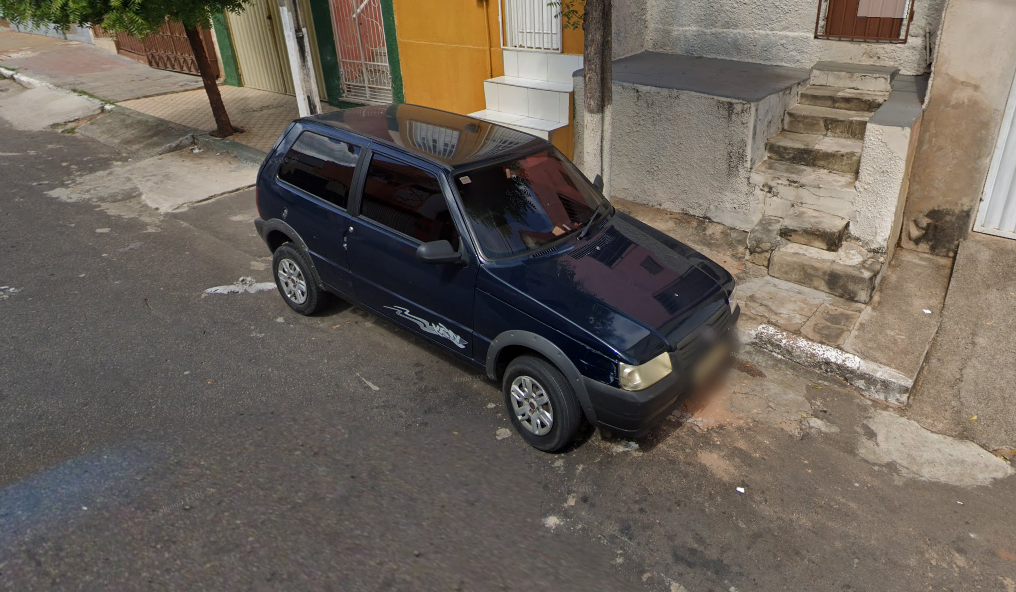car: (249, 95, 745, 459)
